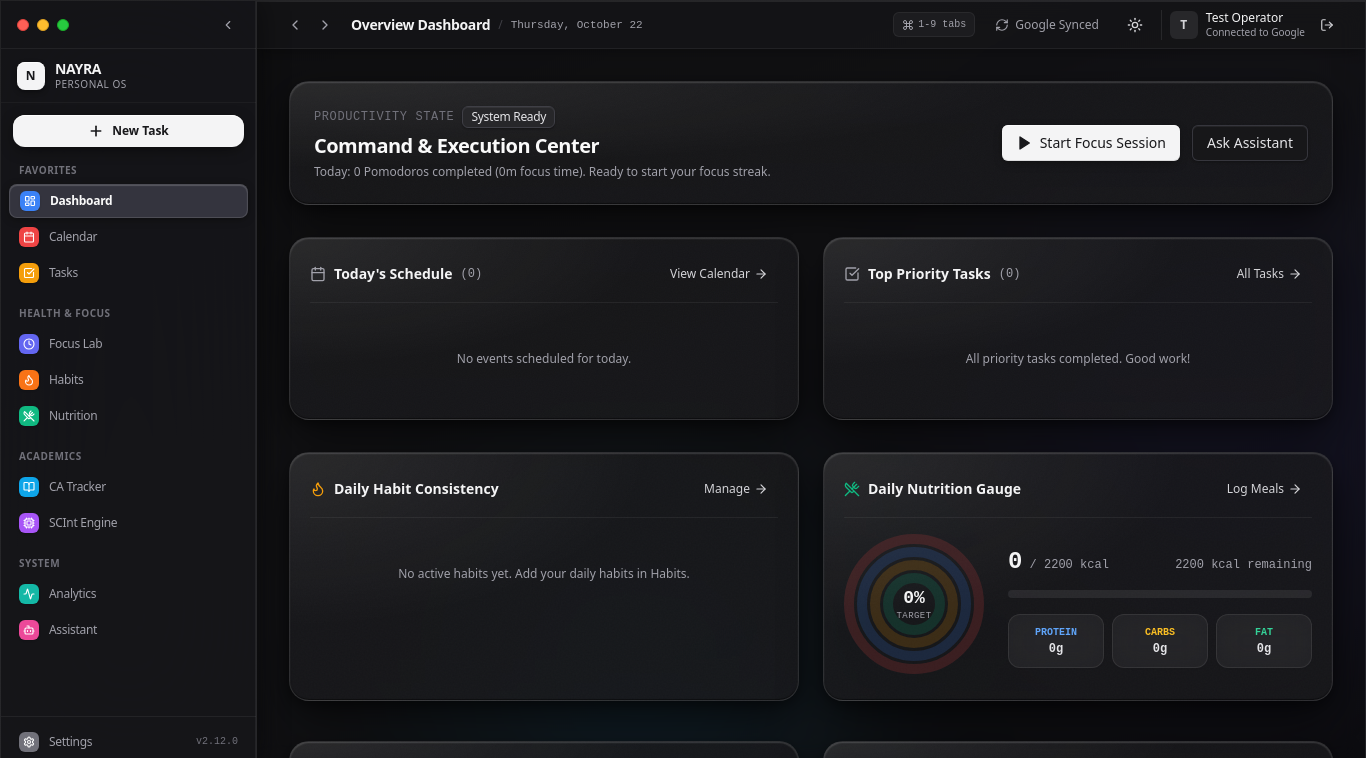
Extension & Analytics Sync Integration Tests (v2.10.1) › 3. Cross-Tab & Extension Broadcast Sync › receives SESSION_LOGGED from extension BroadcastChannel and registers focus time
What coordinates should you click on to do the following:
click the text "Analytics"
I would click on:
 (73, 594)
Its box is [49,585,96,602].
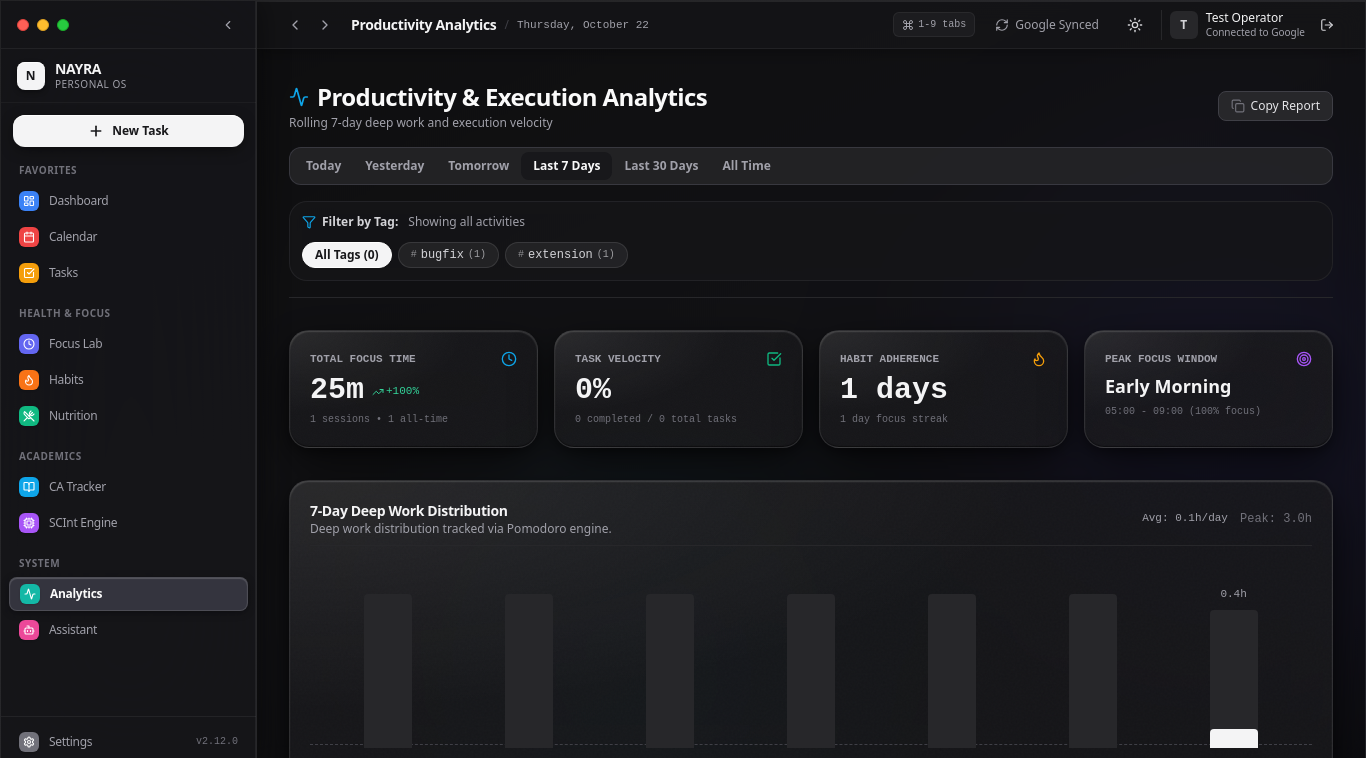
Now the text "Productivity & Execution Analytics" is shown, box [317,81,707,113]
Now the text "25m" is shown, box [310,372,364,408]
